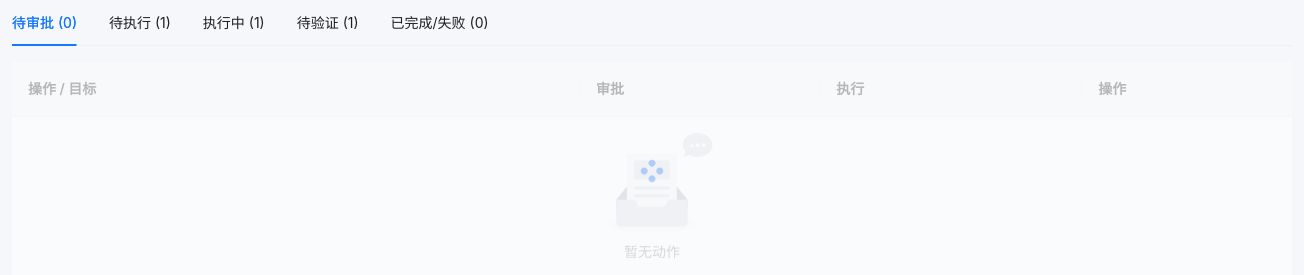
ActionCenter capability gate › renders only localized workflow statuses in the summary columns
Click the tab "待执行 (1)" at (140, 23), box [109,12,171,34]
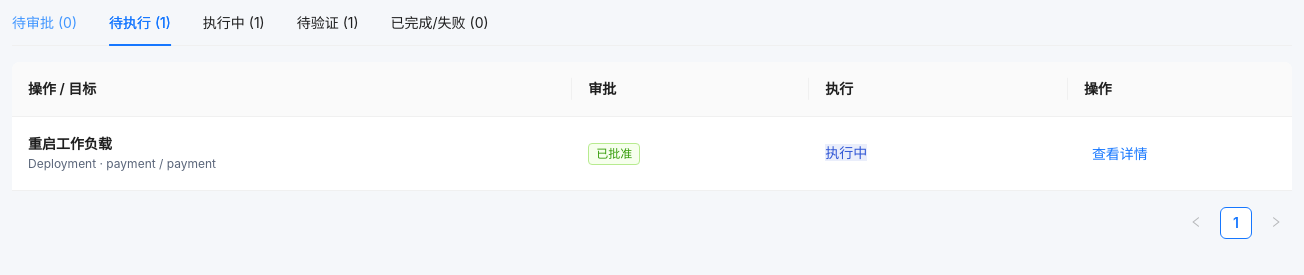
Expected: the text "重启工作负载" is shown, [28,135,112,152]
Expected: the text "已批准" is shown, [588,143,640,165]
Expected: the text "执行中" is shown, [825,144,867,161]
